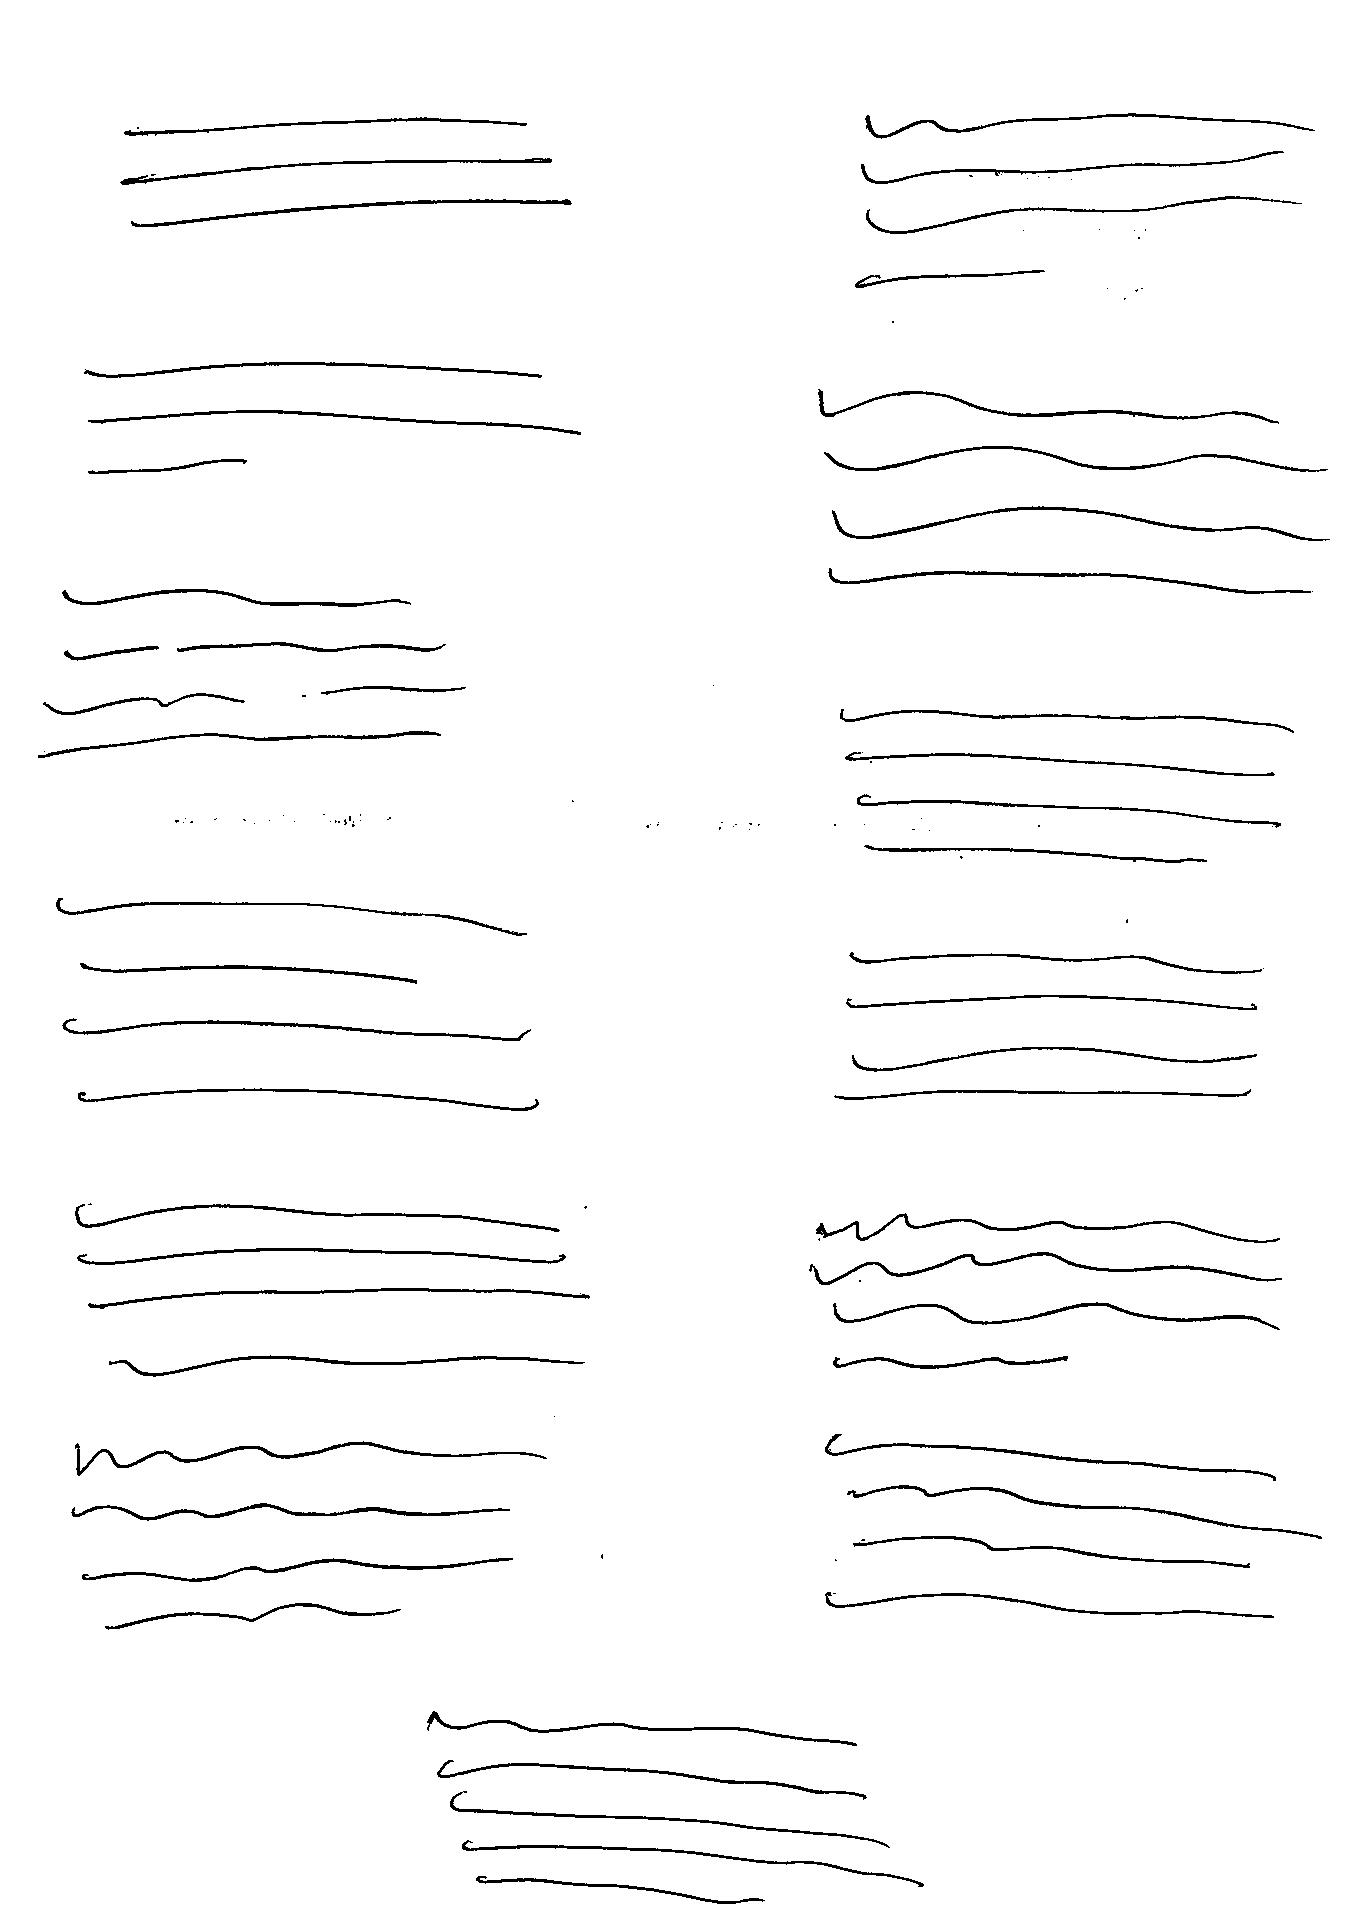Paragraph: (815, 381, 1336, 600), (52, 895, 544, 1116), (67, 1433, 551, 1635), (847, 84, 1319, 291), (67, 1199, 596, 1381), (819, 1436, 1329, 1622), (421, 1708, 891, 1907), (797, 1214, 1294, 1374), (33, 584, 472, 764), (831, 705, 1305, 866), (832, 943, 1271, 1116), (81, 359, 585, 483), (114, 111, 572, 231)
